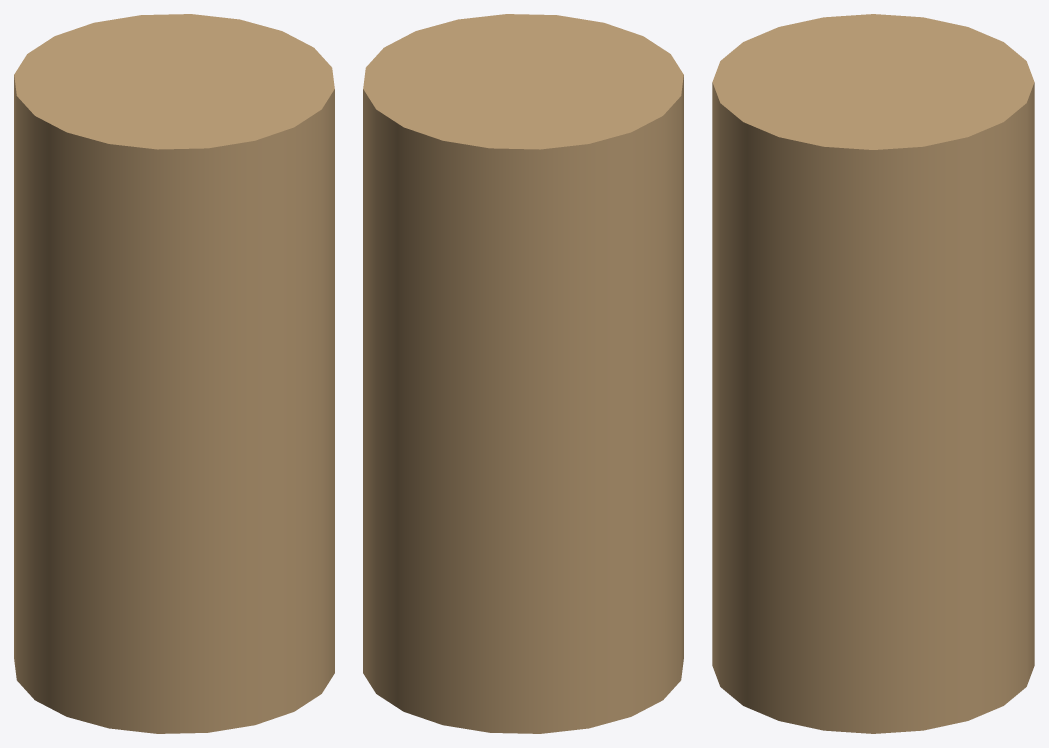
3 renders of one model, left to right at view 1: azimuth 30°, elevation 25°; view 2: azimuth 150°, elevation 25°; view 3: azimuth 270°, elevation 25°, orthographic.
Parts seen in each view (by area): view 1: Cylinder; view 2: Cylinder; view 3: Cylinder.
Boxes of the visible parts, x1,y1,x2,y2 form: Cylinder: [14, 14, 334, 733]; Cylinder: [363, 14, 683, 733]; Cylinder: [712, 14, 1034, 733].
Bounding box in the file's own units: 1 × 2 × 1.
